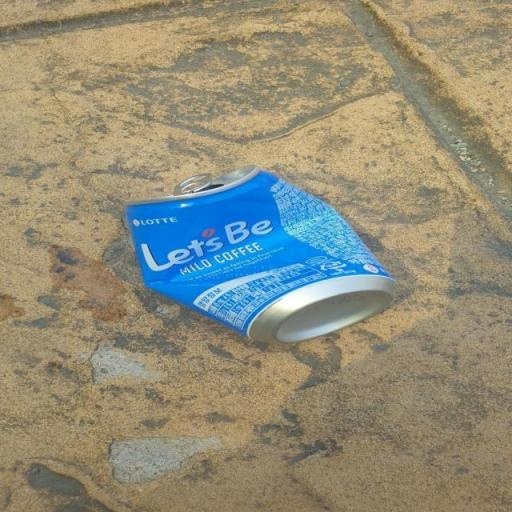metal: (94, 140, 391, 356)
